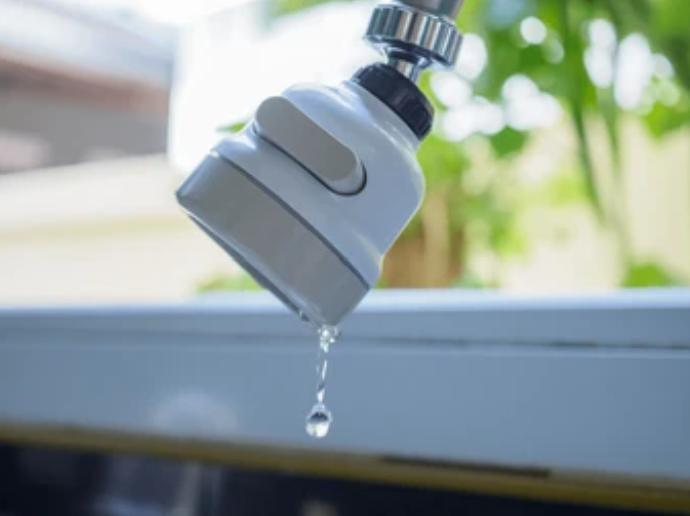water drop: (305, 324, 332, 438)
